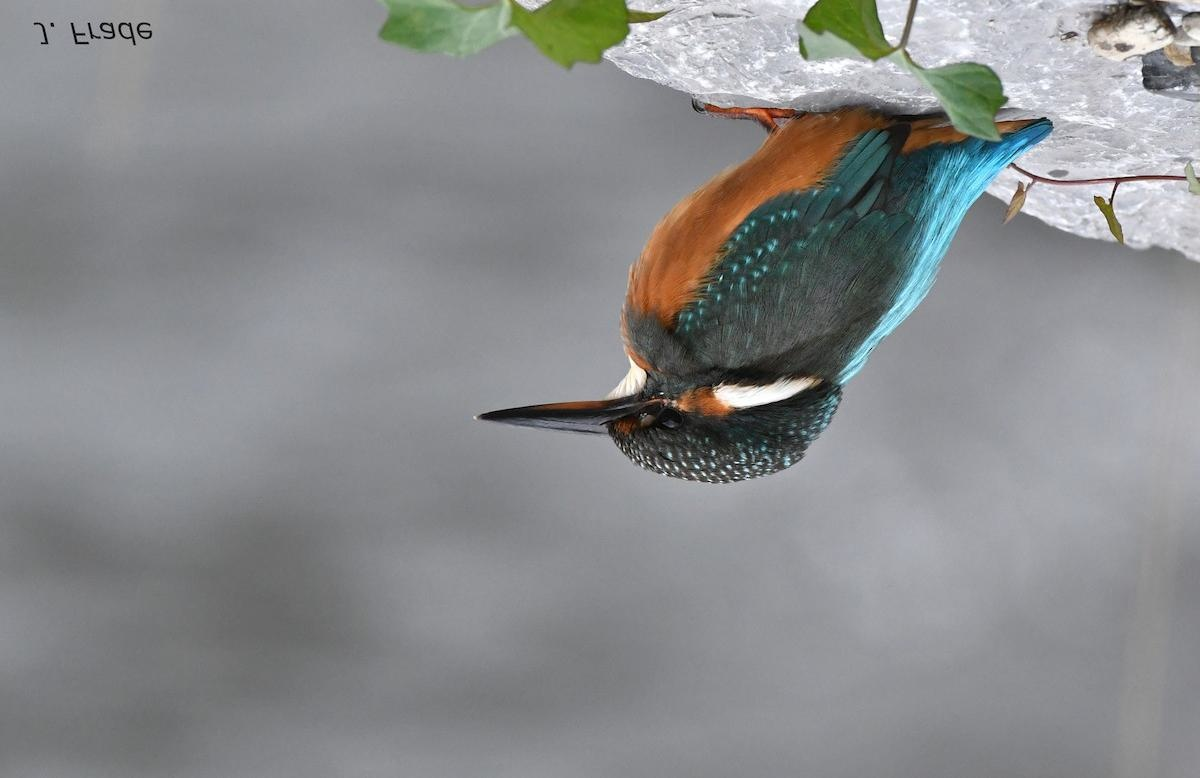kingfisher: (463, 68, 1045, 481)
